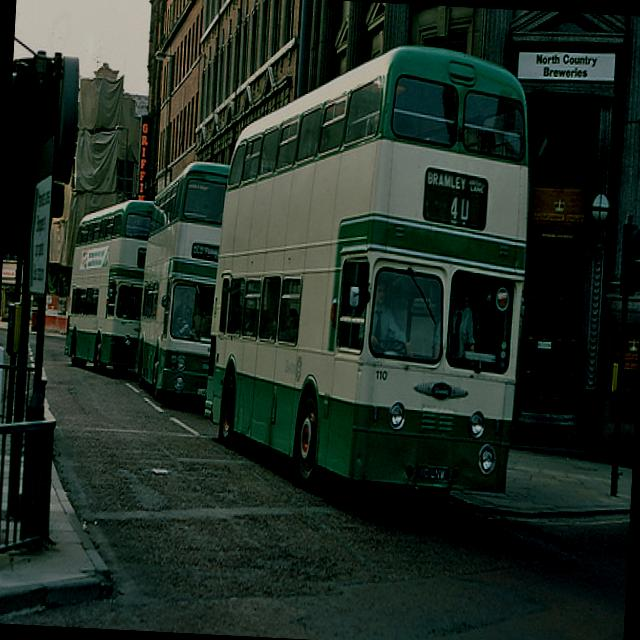Vehicle: (198, 38, 540, 504), (133, 159, 230, 405), (65, 193, 154, 375)
